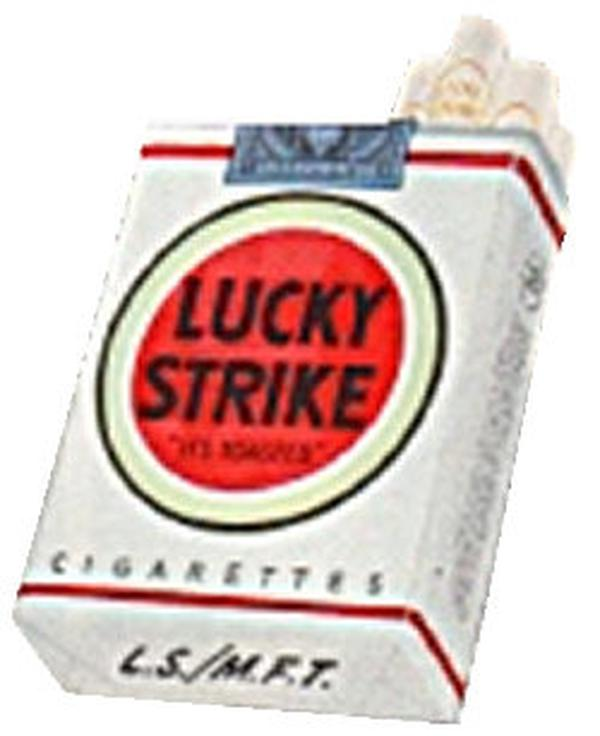lucky_strike_red: (82, 138, 444, 619)
